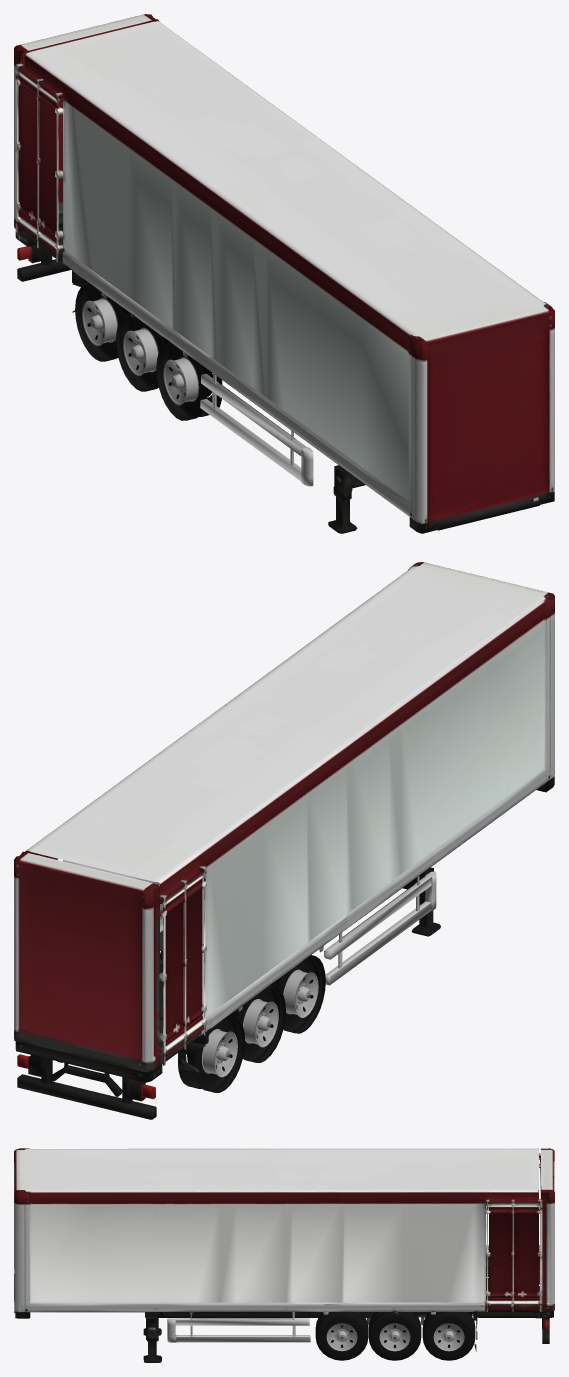
The model's file is carreta-bau-1.glb.
3 views of the same model, one above another, from view 1: azimuth 30°, elevation 25°; view 2: azimuth 150°, elevation 25°; view 3: azimuth 270°, elevation 25° (orthographic). The views are drawn at different scales.
Parts seen in each view (by area): view 1: Frota_bau, Tyre_Rear_L, Tyre_Rear3_L, Tyre_Rear2_L; view 2: Frota_bau, Tyre_Rear3_L, Tyre_Rear2_L, Tyre_Rear_L; view 3: Frota_bau, Tyre_Rear2_R, Tyre_Rear_R, Tyre_Rear3_R.
Boxes of the visible parts, left/top/right/bottom form: Frota_bau: left=14, top=14, right=554, bottom=533; Tyre_Rear_L: left=156, top=342, right=222, bottom=420; Tyre_Rear3_L: left=75, top=283, right=130, bottom=361; Tyre_Rear2_L: left=116, top=313, right=170, bottom=391; Frota_bau: left=14, top=562, right=554, bottom=1119; Tyre_Rear3_L: left=178, top=1014, right=244, bottom=1092; Tyre_Rear2_L: left=231, top=984, right=285, bottom=1062; Tyre_Rear_L: left=271, top=955, right=325, bottom=1033; Frota_bau: left=14, top=1148, right=554, bottom=1362; Tyre_Rear2_R: left=368, top=1312, right=421, bottom=1360; Tyre_Rear_R: left=315, top=1312, right=368, bottom=1360; Tyre_Rear3_R: left=422, top=1312, right=475, bottom=1360.
Bounding box in the file's own units: 2.61 × 4.5 × 12.5.
1 material, 1 textured.
